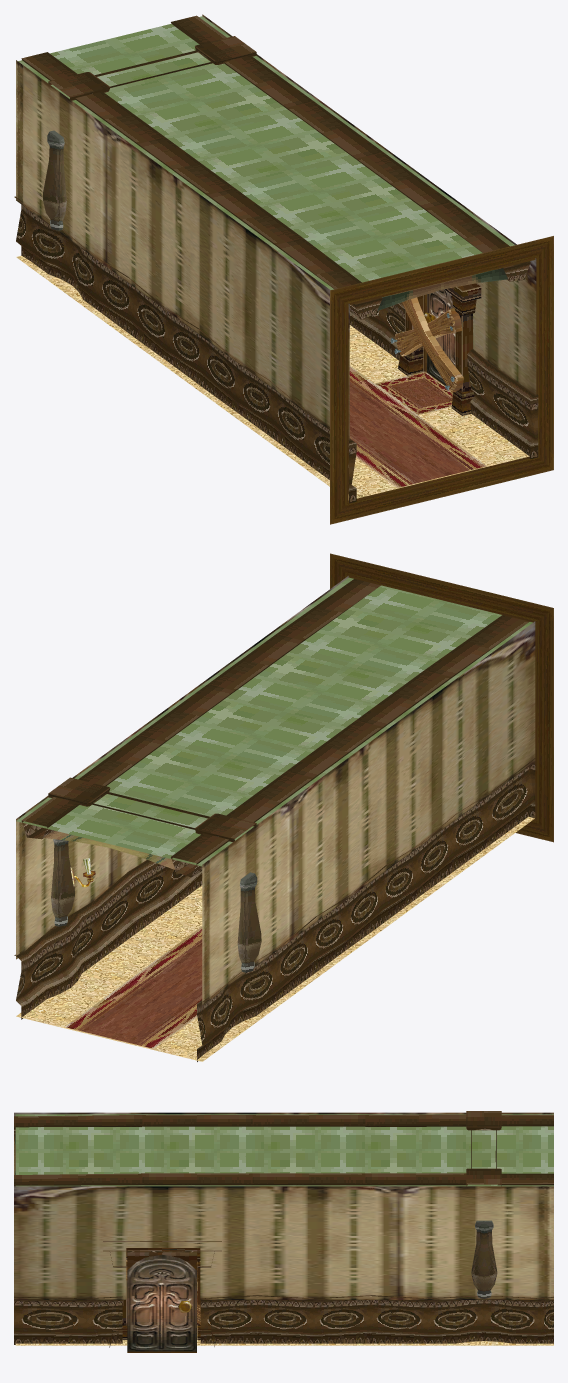
File: room_64.glb
3 renders of one model, top to bottom at view 1: azimuth 30°, elevation 25°; view 2: azimuth 150°, elevation 25°; view 3: azimuth 270°, elevation 25°, orthographic. The views are drawn at different scales.
Visible parts, largest first — view 1: room_64; view 2: room_64; view 3: room_64.
Boxes of the visible parts, x1,y1,x2,y2 form: room_64: [14, 14, 553, 524]; room_64: [14, 553, 553, 1061]; room_64: [14, 1111, 553, 1352].
Size of the model in its own units: 619 by 600 by 1550.
22 materials, 22 textured.
